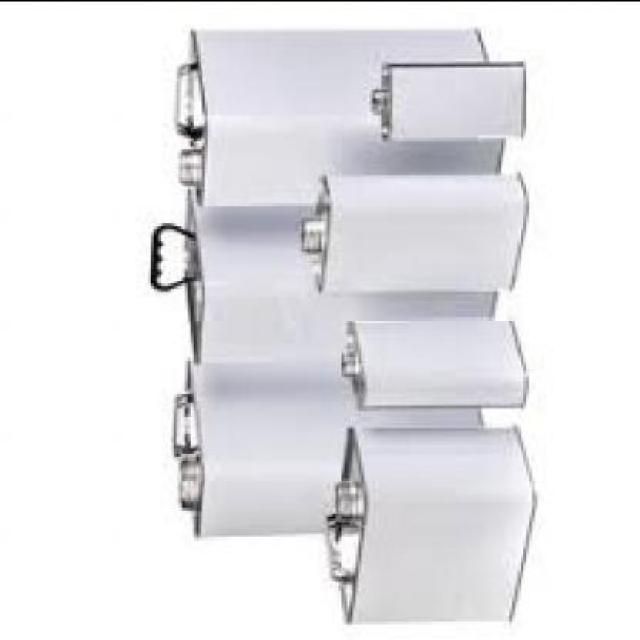METAL: (174, 20, 503, 202), (148, 193, 506, 356), (171, 362, 486, 532), (325, 424, 540, 618), (296, 170, 536, 293), (332, 316, 532, 404), (364, 60, 527, 134)
